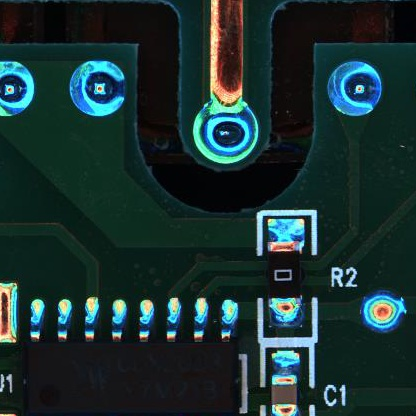spot: (189, 100, 259, 166), (67, 60, 127, 120), (326, 59, 383, 118), (360, 289, 406, 334), (1, 61, 35, 120)
